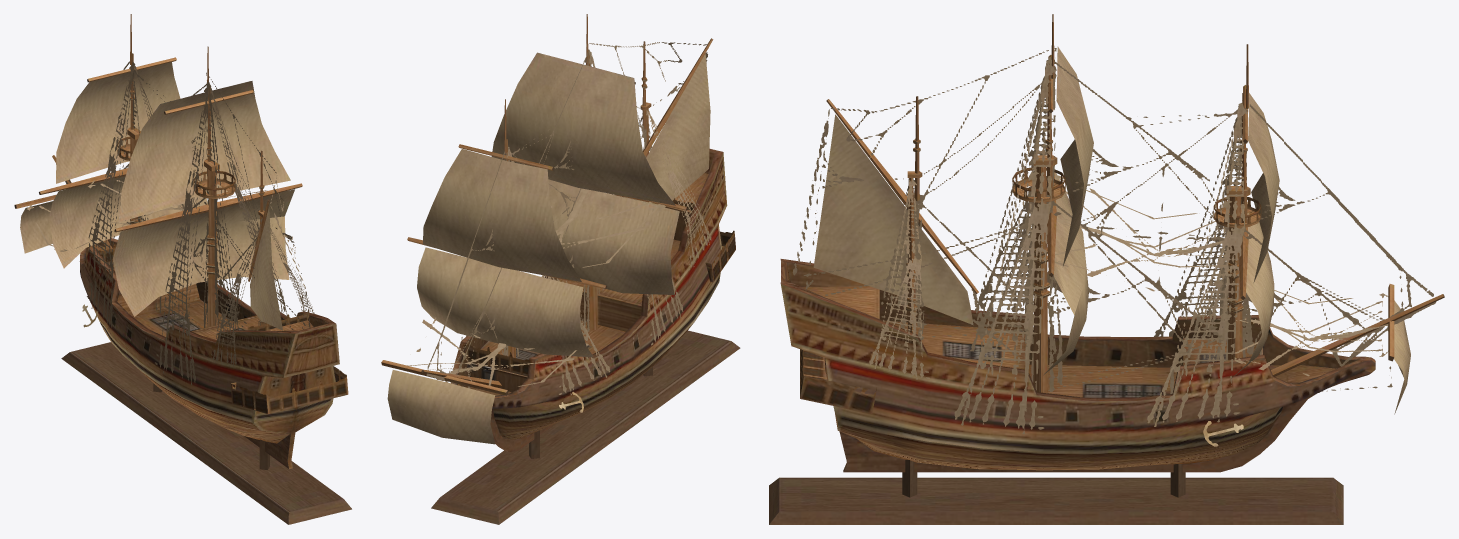
Rendered from ship-model.glb.
3 renders of one model, left to right at view 1: azimuth 30°, elevation 25°; view 2: azimuth 150°, elevation 25°; view 3: azimuth 270°, elevation 25°, orthographic. The views are drawn at different scales.
Visible parts, largest first — view 1: ship-model; view 2: ship-model; view 3: ship-model.
Part boxes in pixels (x1,y1,x2,y2): ship-model: (14, 14, 351, 524); ship-model: (381, 14, 740, 524); ship-model: (769, 14, 1444, 524).
Size of the model in its own units: 0.423 by 0.8427 by 1.05.
Materials: 1 (1 with a texture image).
